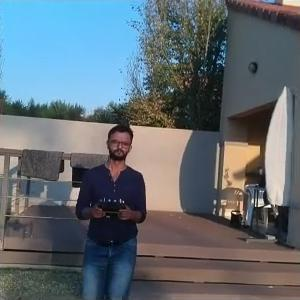follow: (73, 117, 152, 298)
